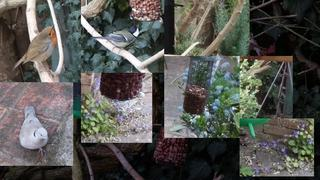collared dove: (19, 106, 49, 157)
great tit: (90, 24, 140, 54)
robin: (11, 24, 57, 74)
